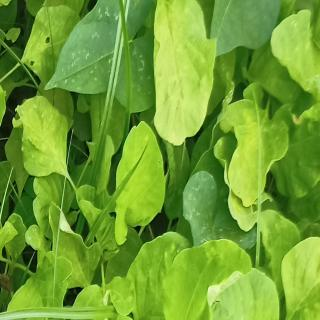karat_putih: (24, 104, 58, 156)
